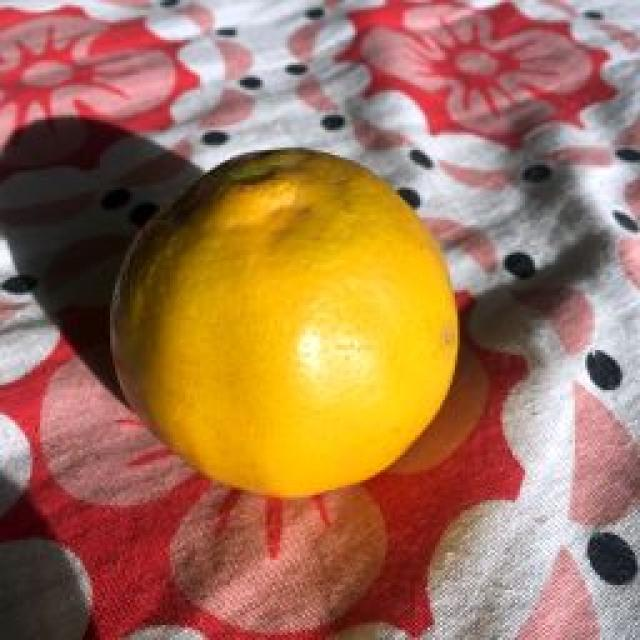Good_Orange: (110, 148, 462, 502)
